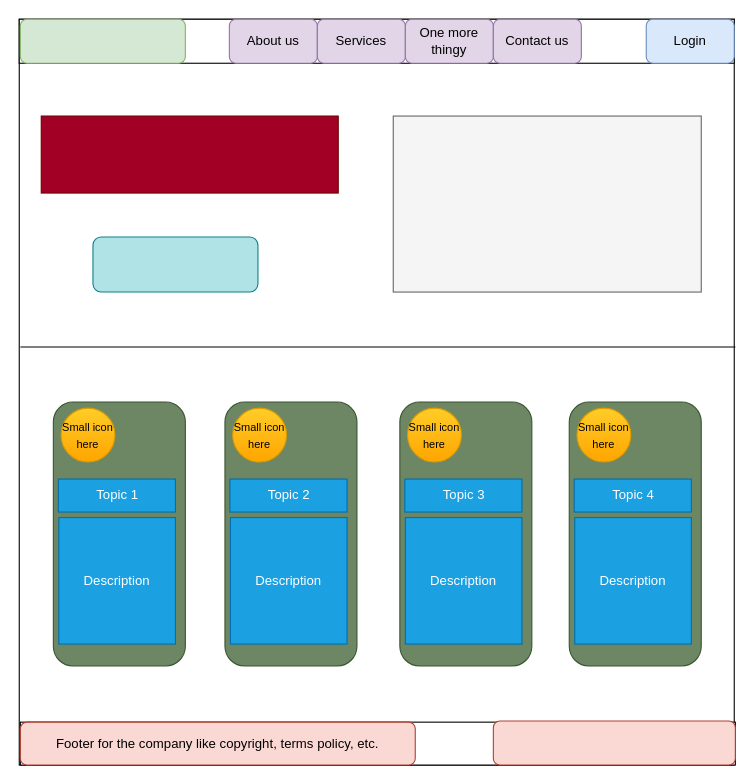
Some shapes in this 756 by 784 pixel diagram are drawn without their labels. Each missing label, with the box of its shape:
Catchy line in heading Description of the company in 2-3 lines: (40, 115, 338, 193)
Company's name with logo: (19, 18, 185, 63)
Image: (392, 115, 701, 292)
Let's get started button: (92, 236, 258, 292)
Logos of different sites where you connect with us or lookup at: (492, 720, 735, 765)
